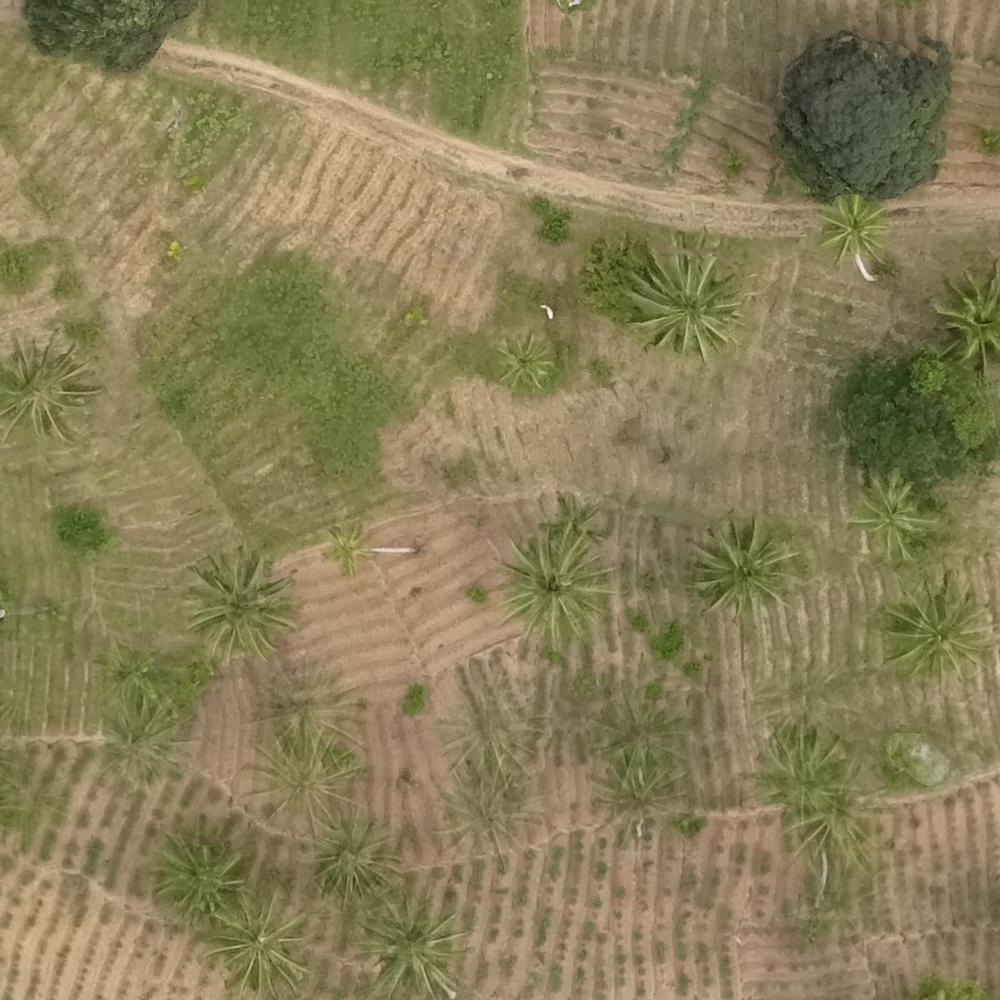Palm: (624, 239, 745, 360), (497, 530, 620, 648), (182, 548, 296, 661), (685, 517, 799, 626), (357, 893, 465, 1000), (1, 337, 110, 442), (882, 576, 990, 681), (207, 889, 313, 992), (302, 816, 399, 911), (152, 827, 237, 922), (850, 475, 933, 564), (821, 195, 893, 260), (496, 335, 560, 388), (321, 527, 377, 580)
